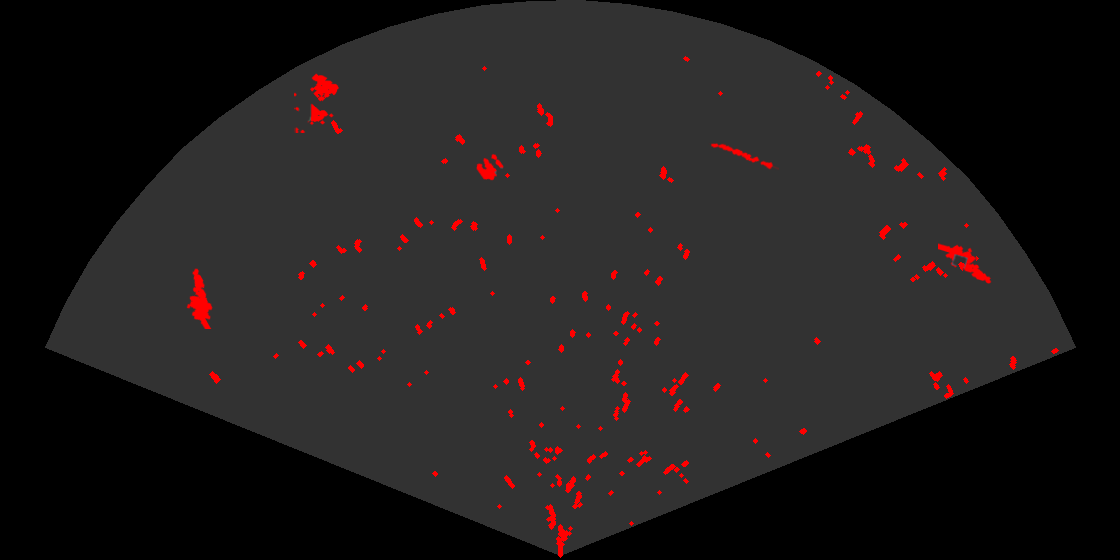ball: (475, 152, 505, 182)
cage: (294, 72, 341, 133)
chain: (708, 142, 779, 171)
frogman: (938, 242, 993, 285), (185, 267, 214, 329)
